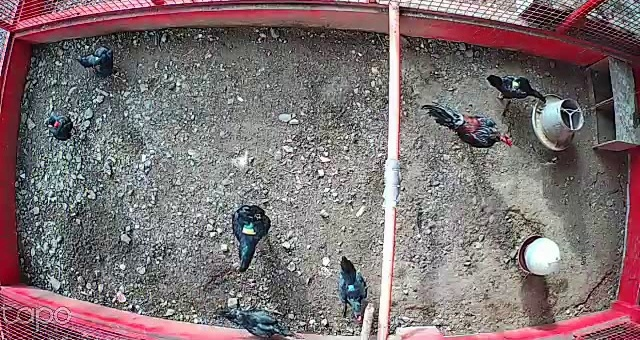Chicken: (212, 296, 300, 340), (228, 196, 275, 272), (69, 42, 136, 84), (334, 254, 371, 327), (485, 70, 549, 107), (41, 111, 82, 143)
Rooster: (417, 97, 516, 155)
Saddle_Color_Blue: (347, 285, 355, 291)
Saddle_Color_Yellow: (512, 79, 521, 91)
Saddle_Color_YellowGreen: (241, 220, 257, 237)
